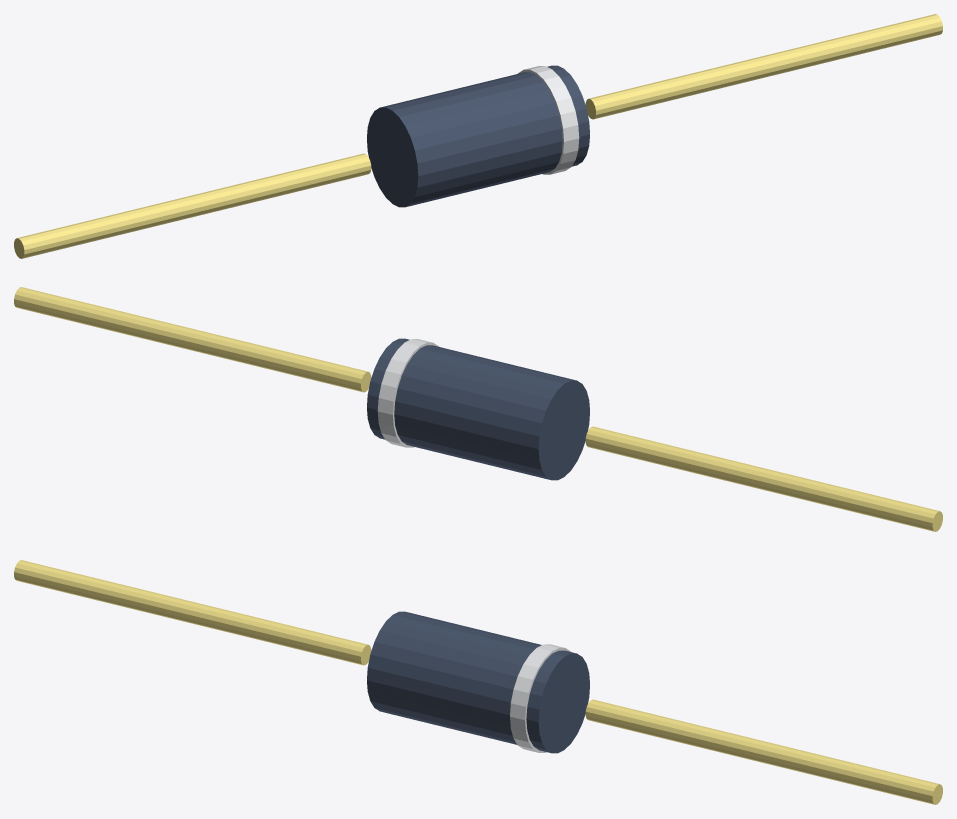
File: diode-1n4007.glb
3 renders of one model, top to bottom at view 1: azimuth 30°, elevation 25°; view 2: azimuth 150°, elevation 25°; view 3: azimuth 330°, elevation 25°, orthographic.
Visible parts, largest first — view 1: diode-1n4007_mesh; view 2: diode-1n4007_mesh; view 3: diode-1n4007_mesh.
Part boxes in pixels (x1=…): diode-1n4007_mesh: x1=14, y1=14, x2=942, y2=258; diode-1n4007_mesh: x1=14, y1=287, x2=942, y2=531; diode-1n4007_mesh: x1=14, y1=560, x2=942, y2=804.
Size of the model in its own units: 27.8 by 2.84 by 2.84.
